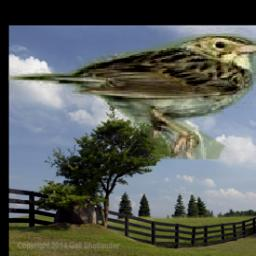Sparrow: (8, 28, 256, 160)
